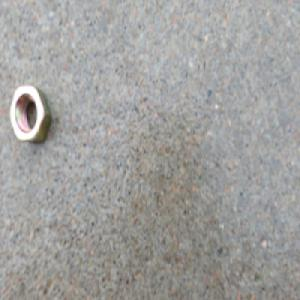Nut: (7, 82, 53, 146)
